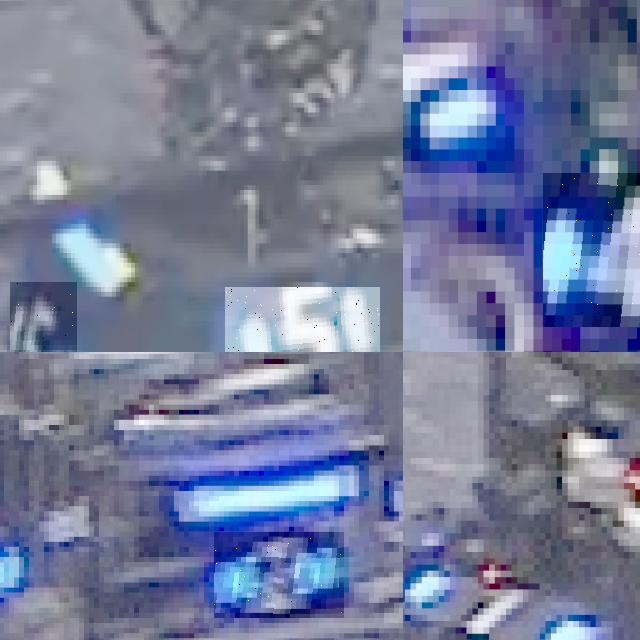B2: (214, 532, 344, 618)
B4: (542, 173, 640, 327)
B5: (225, 287, 379, 352), (10, 282, 78, 352)
